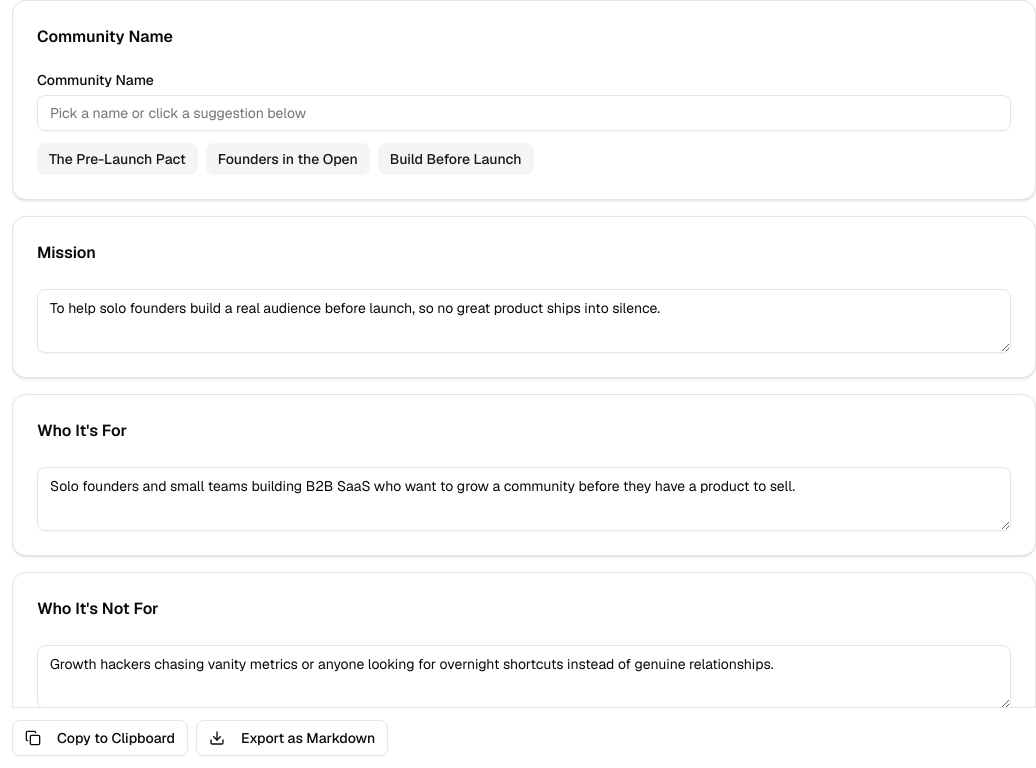
Test: ManifestoEditor › fills the Community Name input when a name chip is clicked
Expected: the field labelled "Community Name" is empty, [37,95,1011,131]
Click the button "Founders in the Open". click: (288, 159)
box: [206,143,370,175]
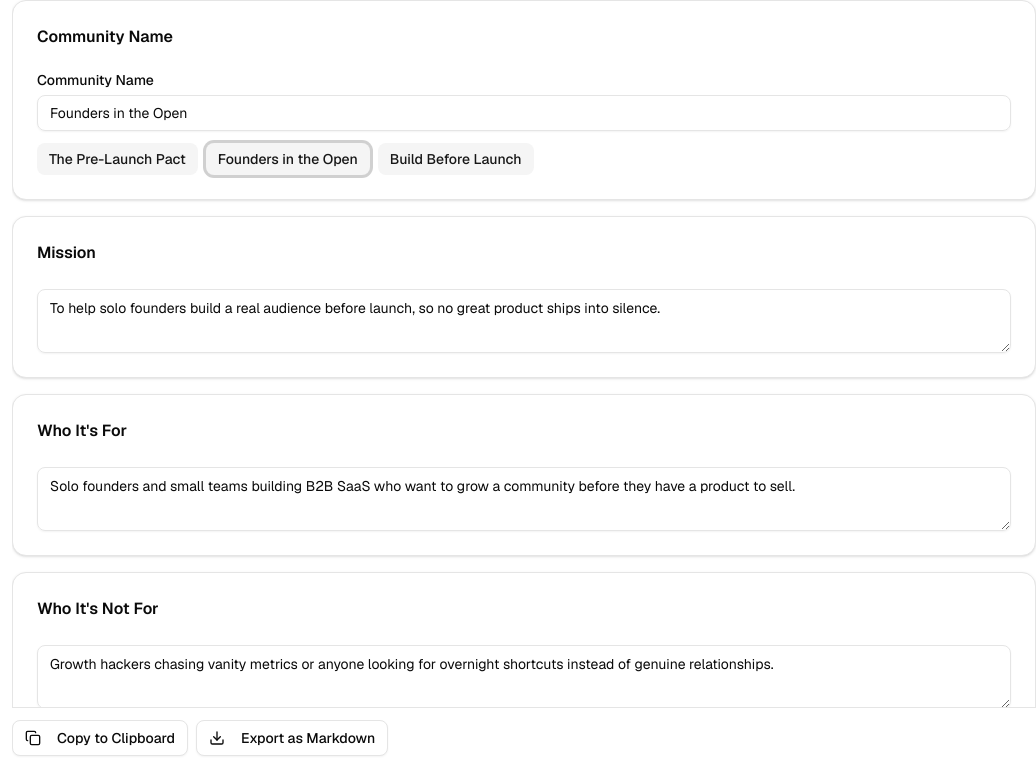
Expected: the field labelled "Community Name" holds "Founders in the Open", [37,95,1011,131]
